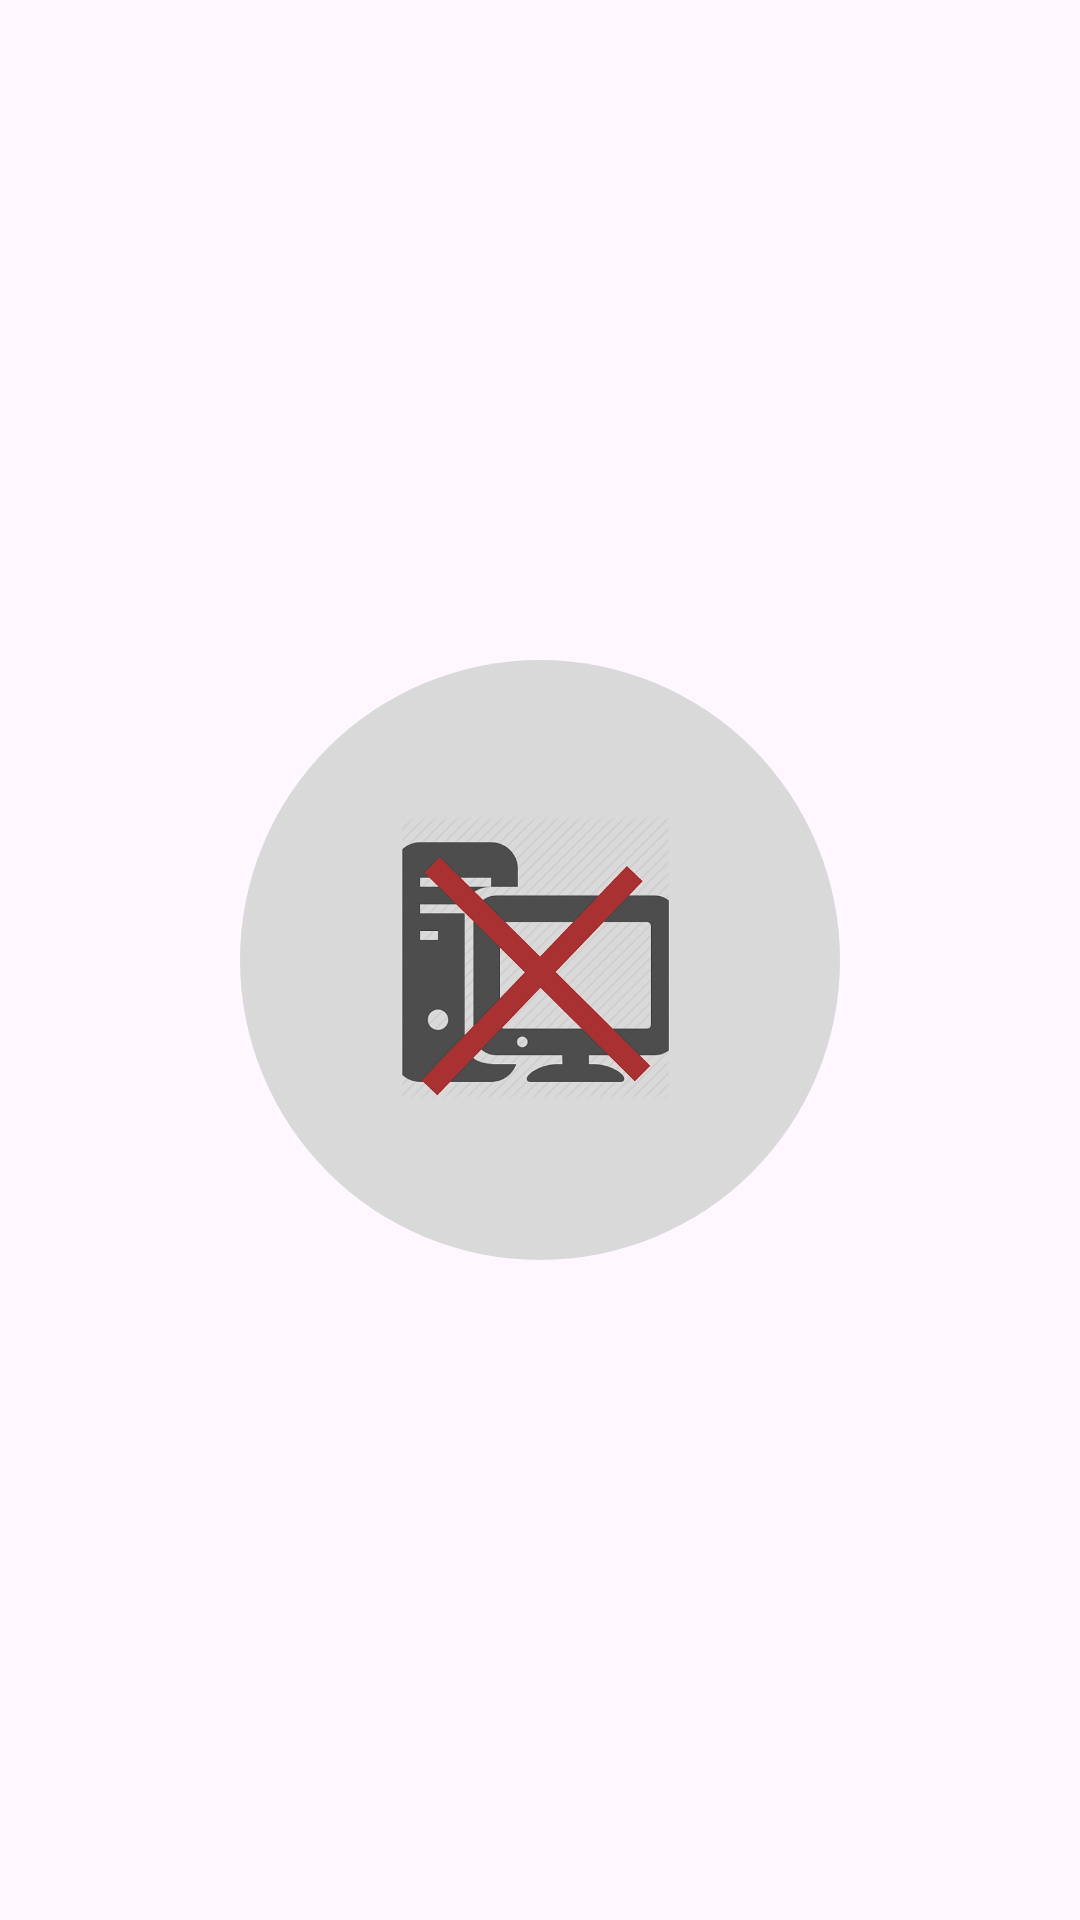

Named icons in this screenshot (1080*1920) and their centers, [x,y]:
not connected: [535,968]
